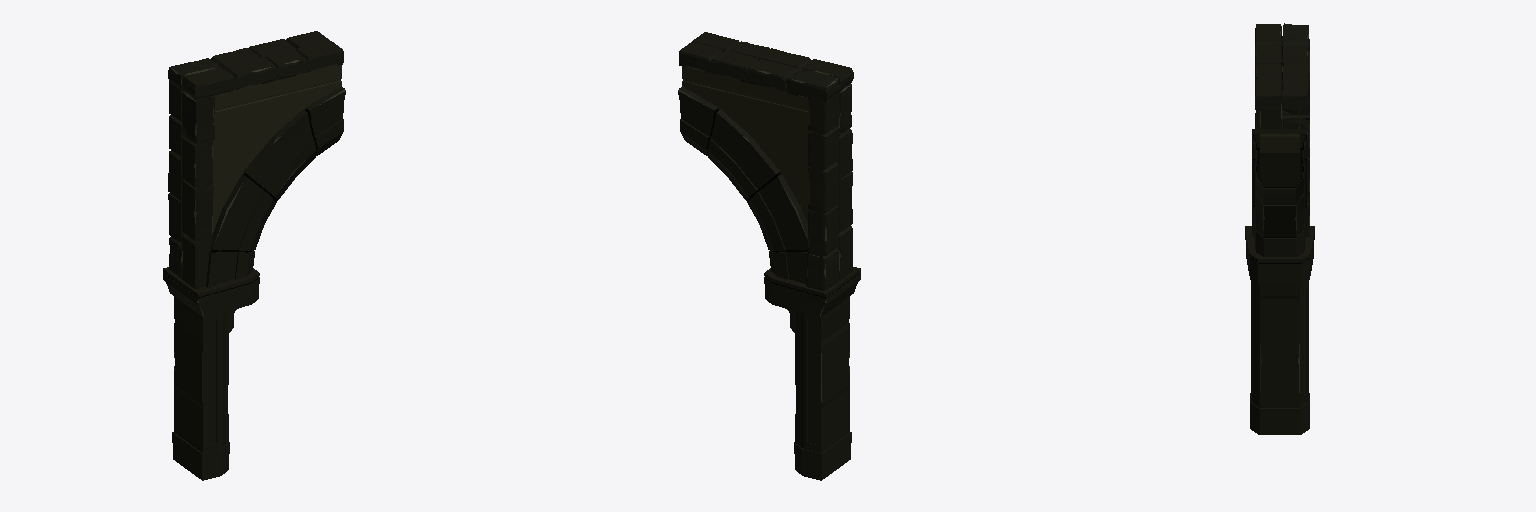
The model's file is Support_Left.obj.
3 views of the same model, side by side, from view 1: azimuth 30°, elevation 25°; view 2: azimuth 150°, elevation 25°; view 3: azimuth 270°, elevation 25° (orthographic).
Visible parts, largest first — view 1: Support_Left_Cylinder.053; view 2: Support_Left_Cylinder.053; view 3: Support_Left_Cylinder.053.
Boxes of the visible parts, x1=… form: Support_Left_Cylinder.053: x1=163, y1=31, x2=345, y2=480; Support_Left_Cylinder.053: x1=678, y1=32, x2=860, y2=480; Support_Left_Cylinder.053: x1=1245, y1=23, x2=1314, y2=434.
Bounding box in the file's own units: 1.65 × 4.1 × 0.6589.